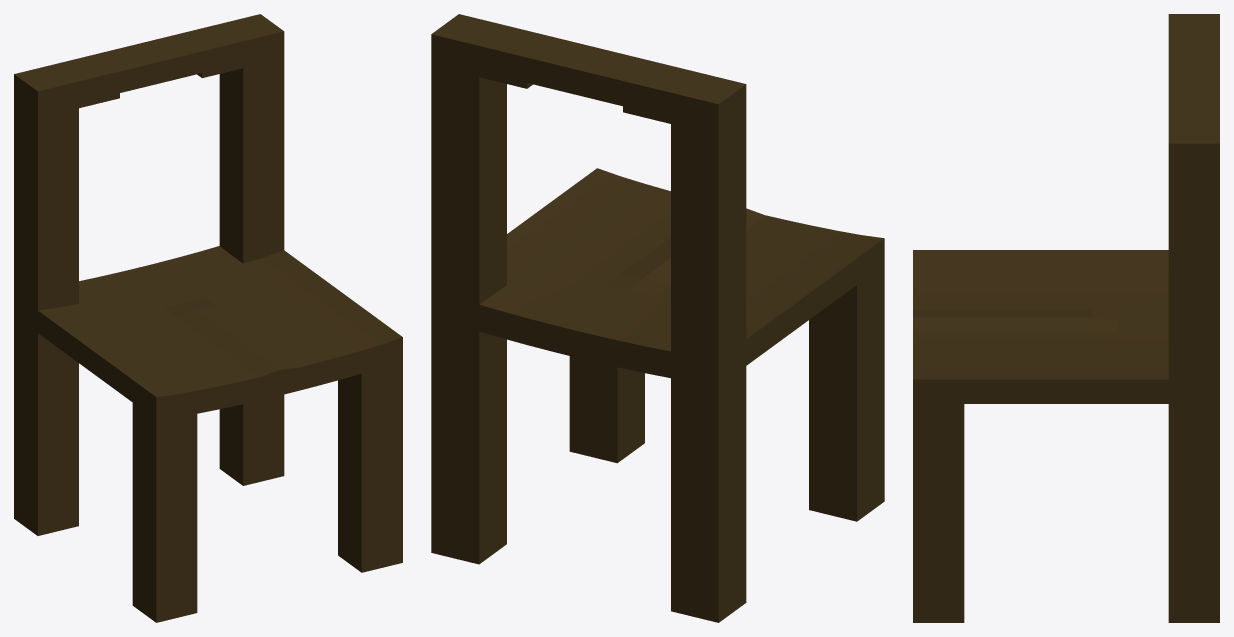
Rendered from chear.fbx.
3 renders of one model, left to right at view 1: azimuth 30°, elevation 25°; view 2: azimuth 150°, elevation 25°; view 3: azimuth 270°, elevation 25°, orthographic. The views are drawn at different scales.
Parts seen in each view (by area): view 1: Cube; view 2: Cube; view 3: Cube.
Part boxes in pixels (x1,y1,x2,y2): Cube: (14,14,402,622); Cube: (431,14,884,622); Cube: (913,14,1219,622).
Bounding box in the file's own units: 200 × 345 × 200.
